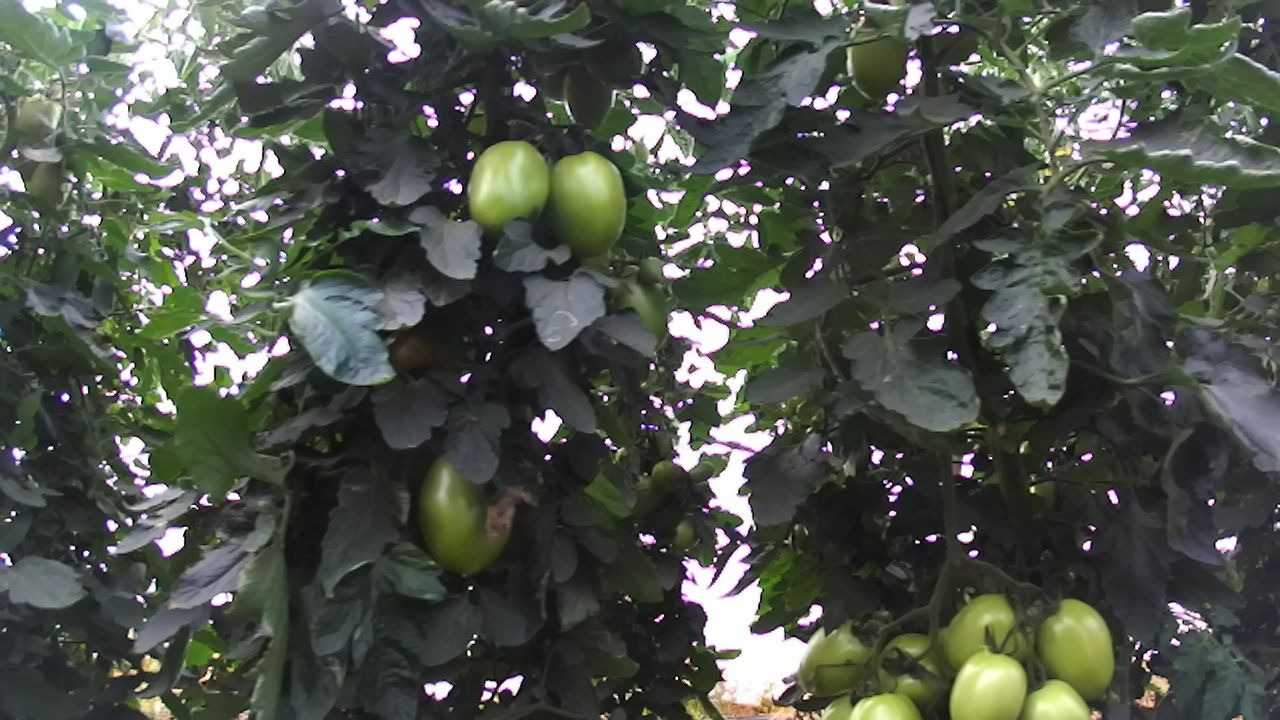tomato: (407, 442, 525, 584), (462, 134, 557, 246), (540, 145, 631, 261), (1031, 590, 1118, 707), (934, 585, 1043, 676), (792, 614, 894, 700), (942, 641, 1041, 720), (843, 4, 917, 104), (871, 628, 953, 709), (1018, 669, 1104, 720)
